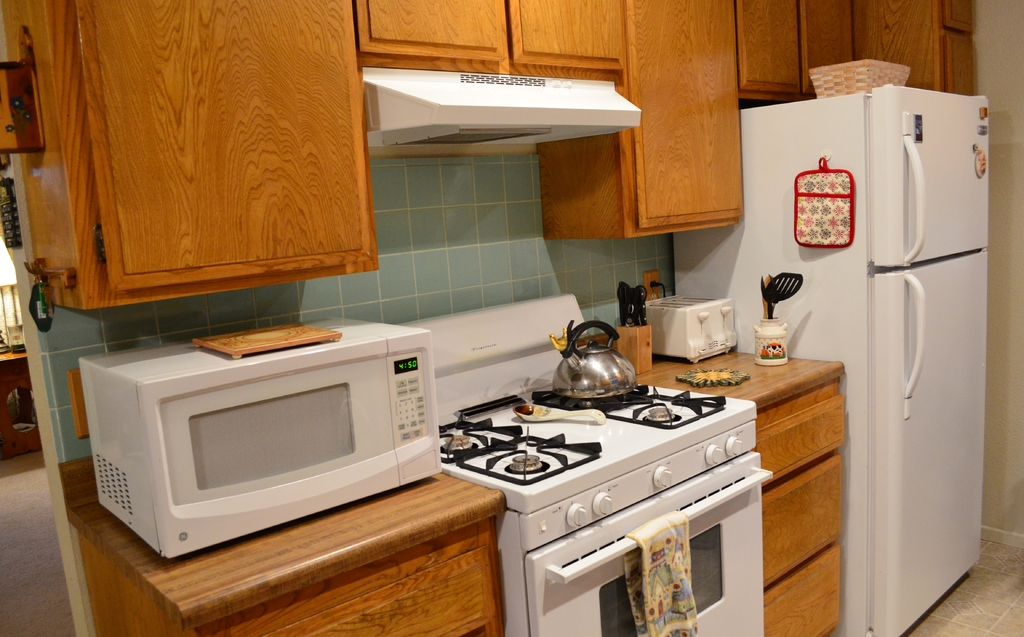cabinet door: (92, 15, 362, 282), (626, 6, 739, 222), (275, 587, 490, 636), (362, 3, 506, 67), (762, 477, 843, 562), (513, 10, 615, 63), (737, 6, 801, 88), (767, 569, 846, 635), (761, 413, 850, 467), (802, 12, 856, 55), (939, 31, 979, 87), (942, 4, 971, 26)
handle: (542, 474, 769, 598), (898, 130, 923, 265), (899, 279, 924, 397)
refrigerator door: (878, 264, 988, 597), (878, 89, 989, 249)
